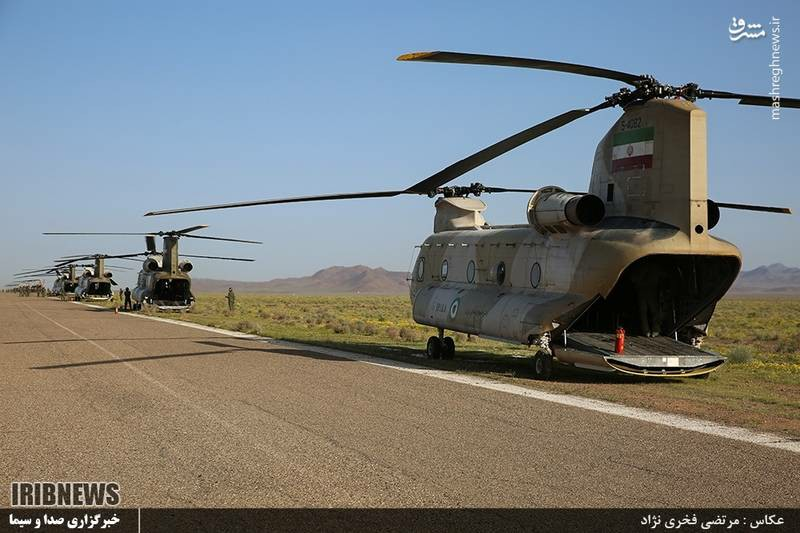chinook: (296, 55, 794, 362), (112, 225, 262, 310), (70, 250, 115, 303)
